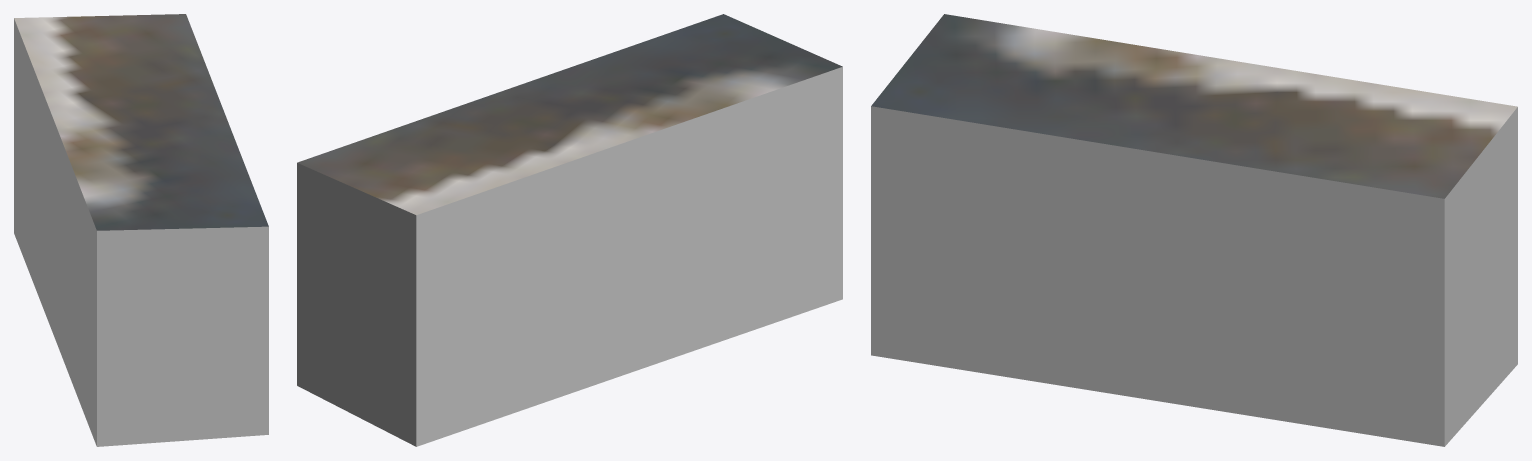
File: DEBW_0010007Txg5.gltf
The picture shows the model from 3 angles, left to right: view 1: azimuth 30°, elevation 25°; view 2: azimuth 150°, elevation 25°; view 3: azimuth 270°, elevation 25°; orthographic projection. The views are drawn at different scales.
Parts seen in each view (by area): view 1: Z_UP; view 2: Z_UP; view 3: Z_UP.
Boxes of the visible parts, x1,y1,x2,y2 form: Z_UP: (14,14,268,446); Z_UP: (297,14,842,446); Z_UP: (871,14,1517,446).
Bounding box in the file's own units: 4.11 × 2.85 × 6.45.
Materials: 2 (1 with a texture image).
